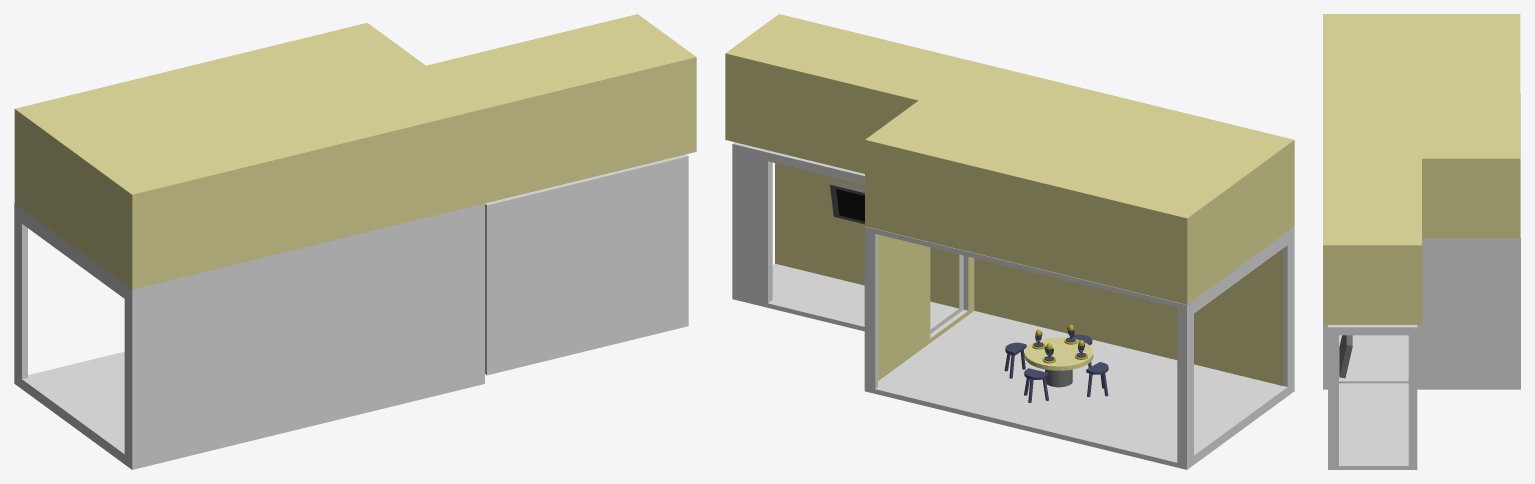
File: Radio.dae
The picture shows the model from 3 angles, left to right: view 1: azimuth 30°, elevation 25°; view 2: azimuth 150°, elevation 25°; view 3: azimuth 270°, elevation 25°; orthographic projection. The views are drawn at different scales.
Visible parts, largest first — view 1: Cube.002, Cube.004; view 2: Cube.002, Cube.004, Cylinder.001, Cube.007; view 3: Cube.002, Cube.004, Cube.007.
Part boxes in pixels (bbox=[...]): Cube.002: bbox=[14, 14, 696, 289]; Cube.004: bbox=[14, 154, 688, 469]; Cube.002: bbox=[725, 14, 1294, 304]; Cube.004: bbox=[732, 142, 1294, 469]; Cylinder.001: bbox=[1024, 337, 1093, 370]; Cube.007: bbox=[830, 181, 864, 224]; Cube.002: bbox=[1323, 14, 1520, 324]; Cube.004: bbox=[1323, 93, 1520, 469]; Cube.007: bbox=[1339, 335, 1352, 378].
Bounding box in the file's own units: 48 × 17.36 × 22.36.
